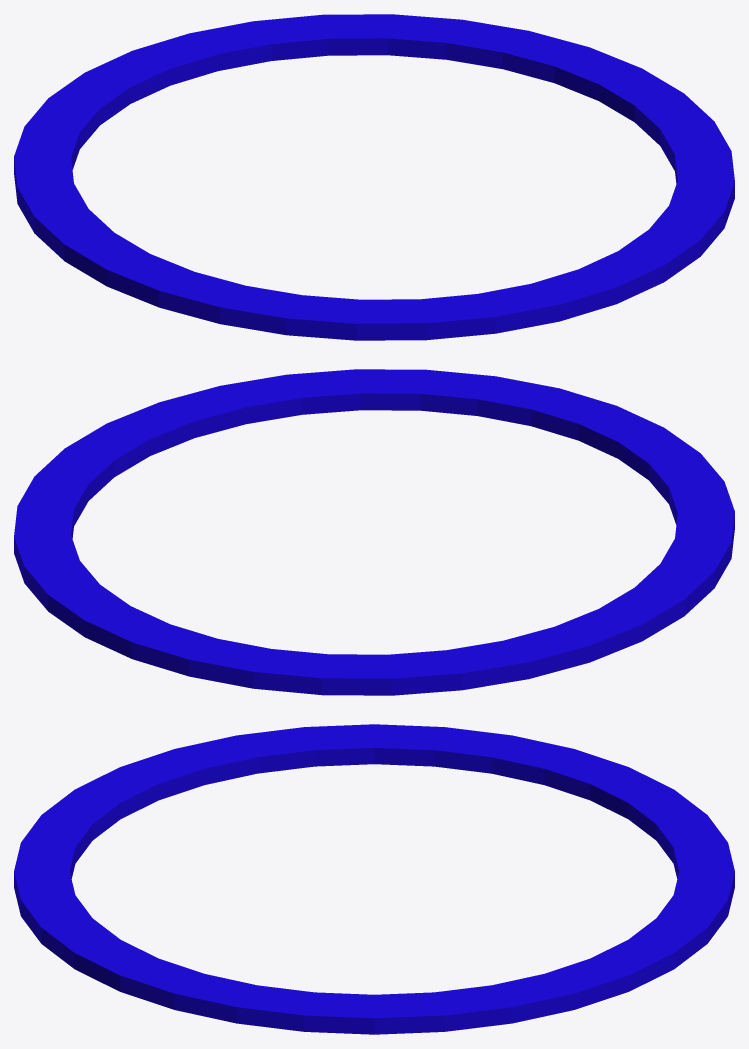
File: Riptide.fbx
3 views of the same model, one above another, from view 1: azimuth 30°, elevation 25°; view 2: azimuth 150°, elevation 25°; view 3: azimuth 270°, elevation 25° (orthographic). The views are drawn at different scales.
Visible parts, largest first — view 1: Cylinder; view 2: Cylinder; view 3: Cylinder.
Part boxes in pixels (x1,y1,x2,y2): Cylinder: [14, 14, 734, 340]; Cylinder: [14, 369, 734, 695]; Cylinder: [14, 724, 734, 1034].
Size of the model in its own units: 0.4638 by 0.0121 by 0.4806.
